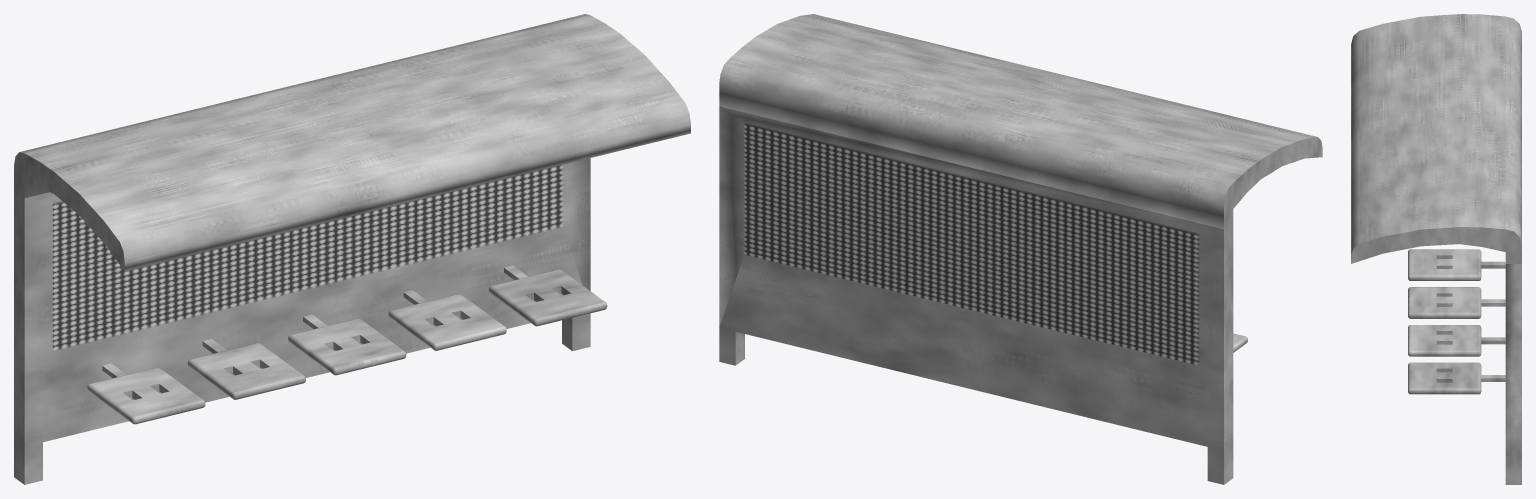
Rendered from PontoOnibus.fbx.
3 views of the same model, side by side, from view 1: azimuth 30°, elevation 25°; view 2: azimuth 150°, elevation 25°; view 3: azimuth 270°, elevation 25° (orthographic). The views are drawn at different scales.
Visible parts, largest first — view 1: PontoOnibus; view 2: PontoOnibus; view 3: PontoOnibus.
Boxes of the visible parts, x1=… form: PontoOnibus: x1=14, y1=14, x2=690, y2=484; PontoOnibus: x1=719, y1=14, x2=1322, y2=484; PontoOnibus: x1=1351, y1=14, x2=1521, y2=484.
Size of the model in its own units: 620 by 350 by 210.
